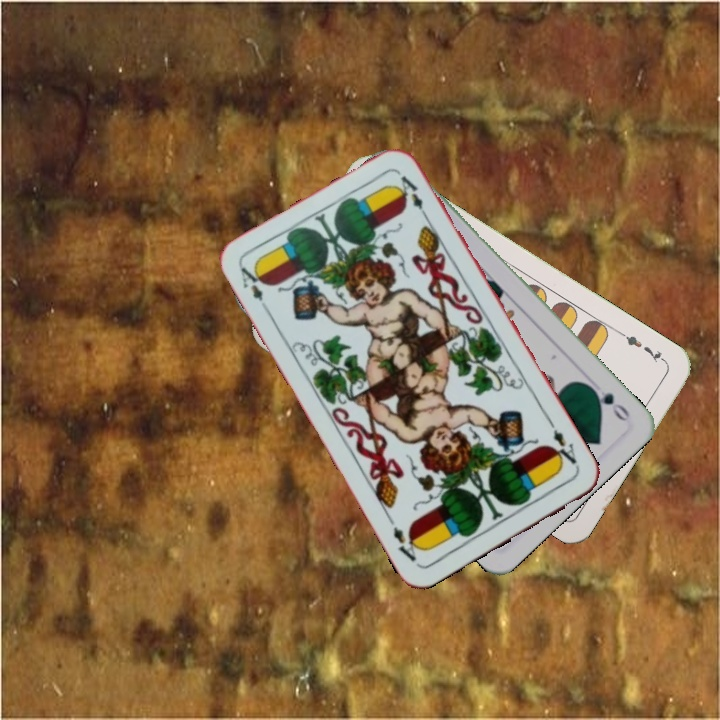E7: (616, 328, 669, 366)
EA: (547, 425, 581, 471), (236, 262, 269, 304)
GO: (584, 381, 633, 425)
